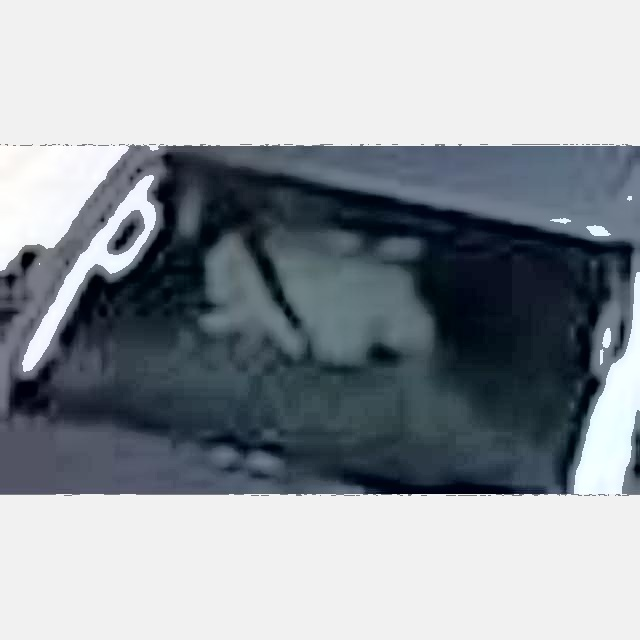pakai: (206, 224, 441, 416)
